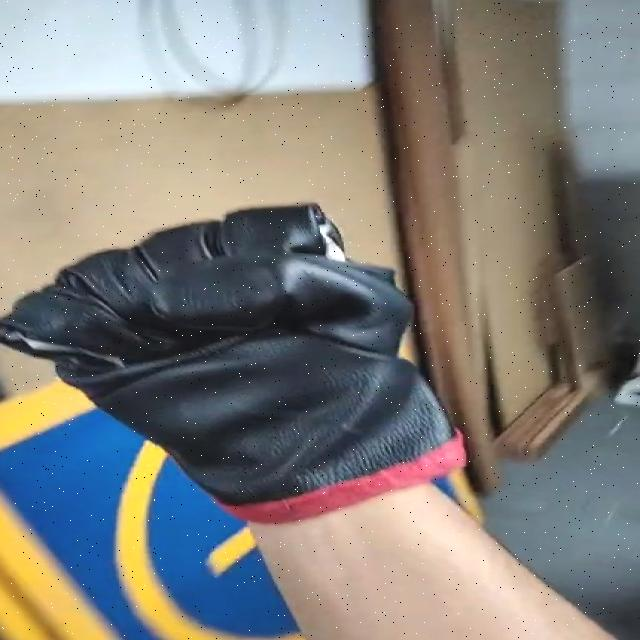Gloves: (4, 201, 473, 525)
